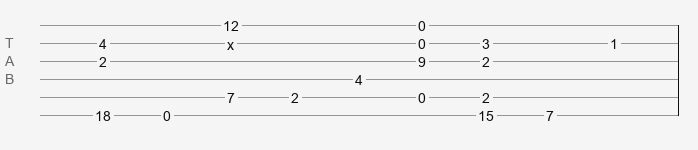0: (163, 108, 171, 118), (418, 36, 426, 46), (418, 18, 426, 28), (418, 90, 426, 100)
1: (610, 36, 618, 46)
12: (223, 18, 239, 28)
15: (478, 108, 494, 118)
18: (95, 108, 111, 118)
2: (99, 54, 107, 64), (291, 90, 299, 100), (482, 54, 490, 64), (482, 90, 490, 100)
3: (482, 36, 490, 46)
4: (99, 36, 107, 46), (355, 72, 363, 82)
7: (227, 90, 235, 100), (546, 108, 554, 118)
9: (418, 54, 426, 64)
x: (227, 37, 234, 45)
